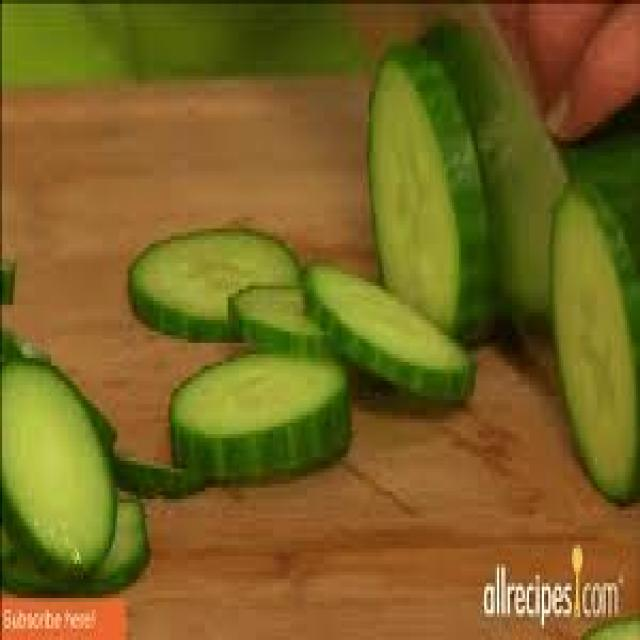organic waste: (367, 38, 491, 347), (548, 171, 638, 503), (0, 354, 115, 587), (298, 255, 472, 396), (166, 347, 348, 476), (126, 221, 299, 339), (0, 488, 145, 586), (226, 282, 327, 350), (111, 453, 203, 499)
